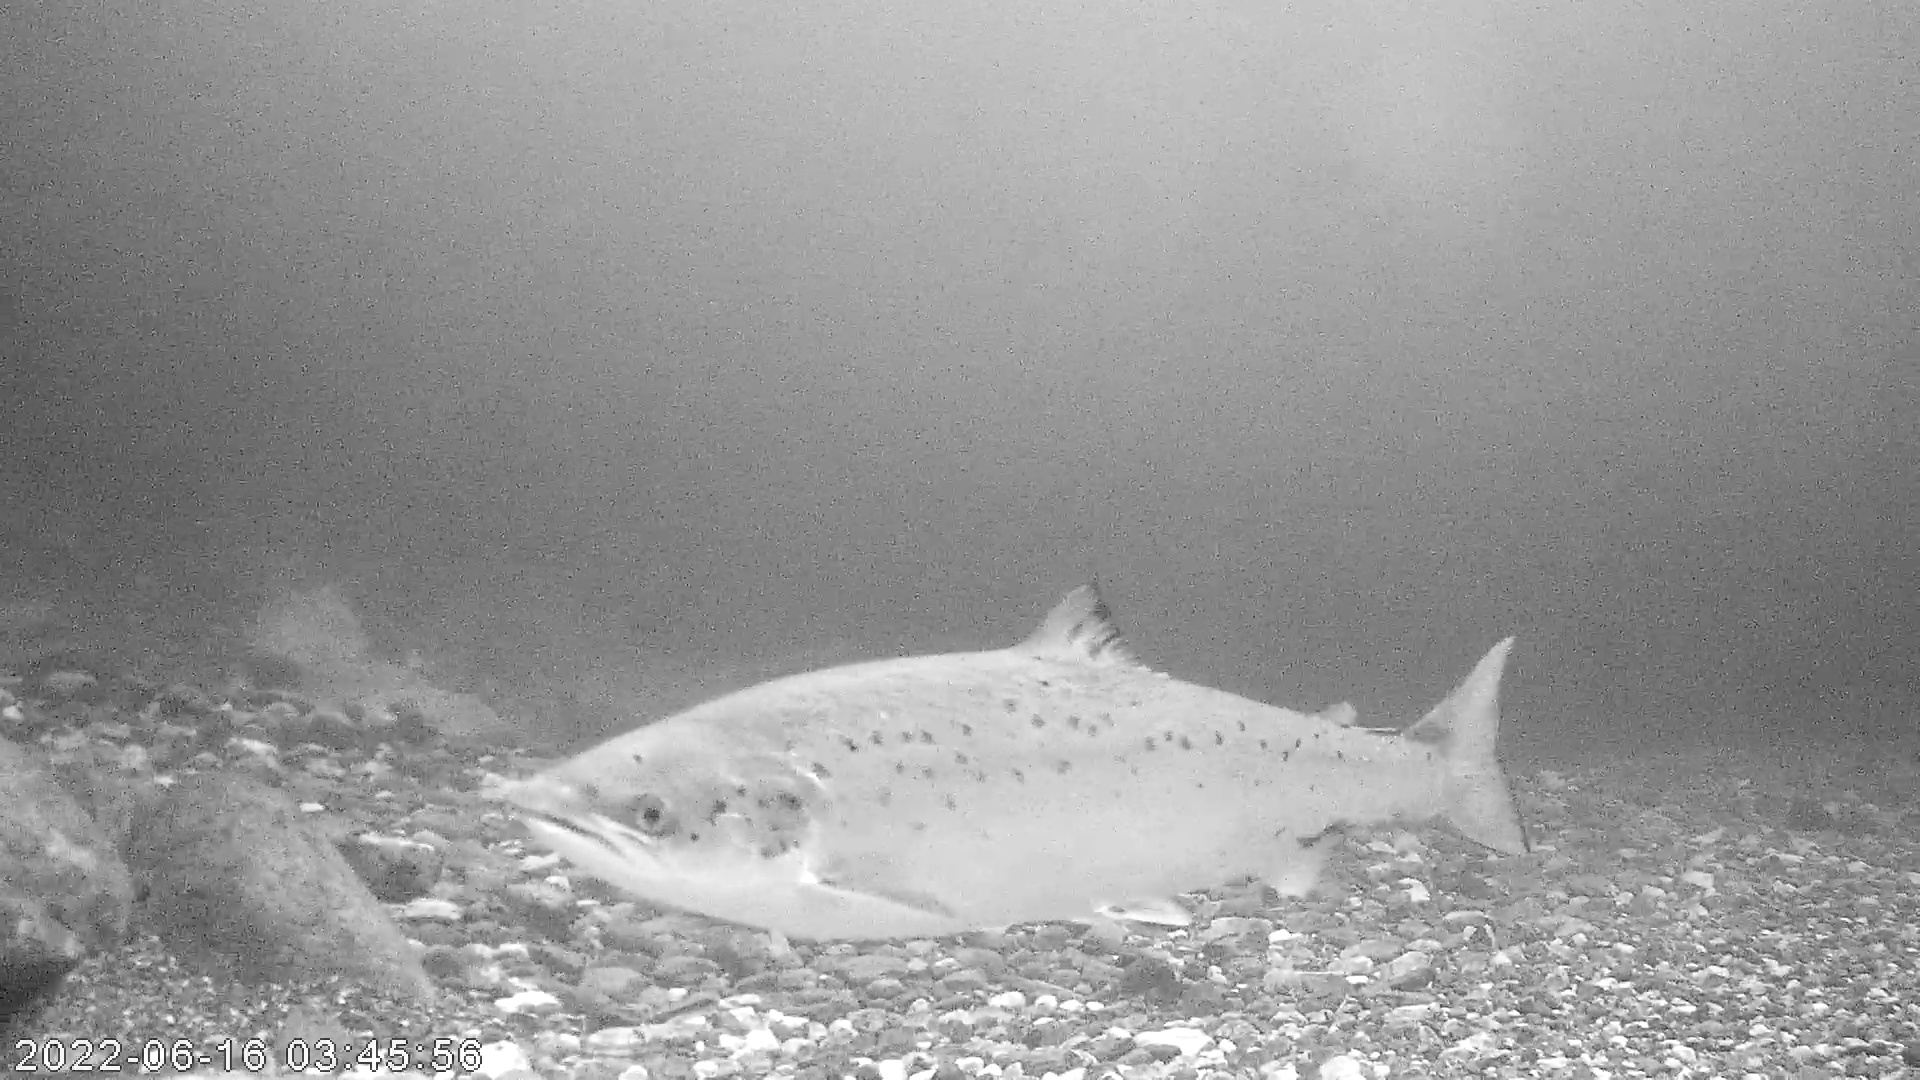salmon: (510, 575, 1534, 948)
